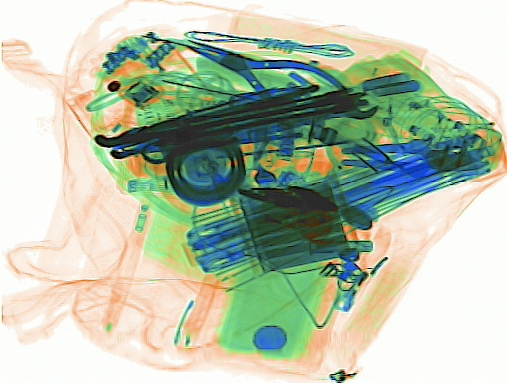lighter: (332, 221, 391, 313)
powerbank: (234, 169, 353, 275)
